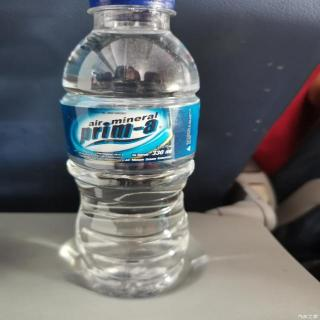Plastic-bottle: (56, 1, 206, 303)
